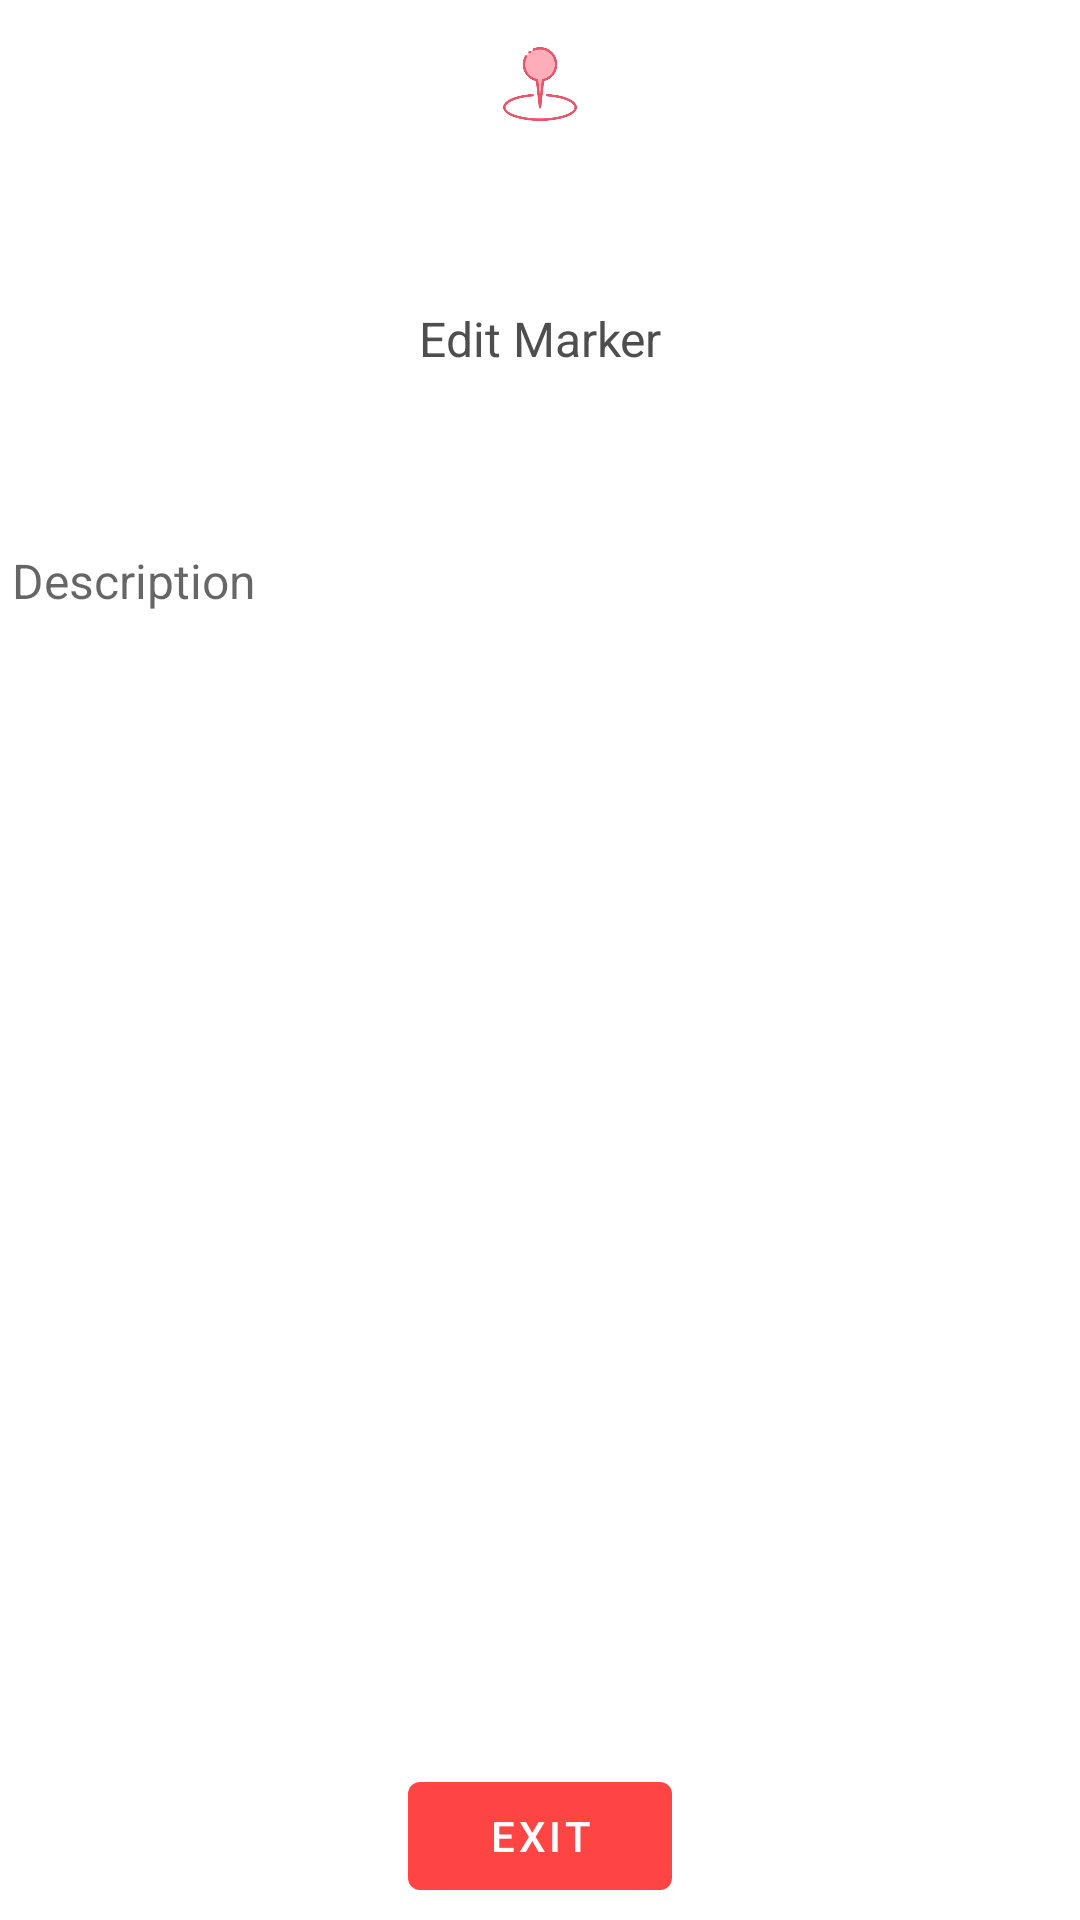

Icons on this 1080w x 1920h Android screen, each with its box as (x1, y1, x2, y2):
maps: (503, 47, 577, 121)
